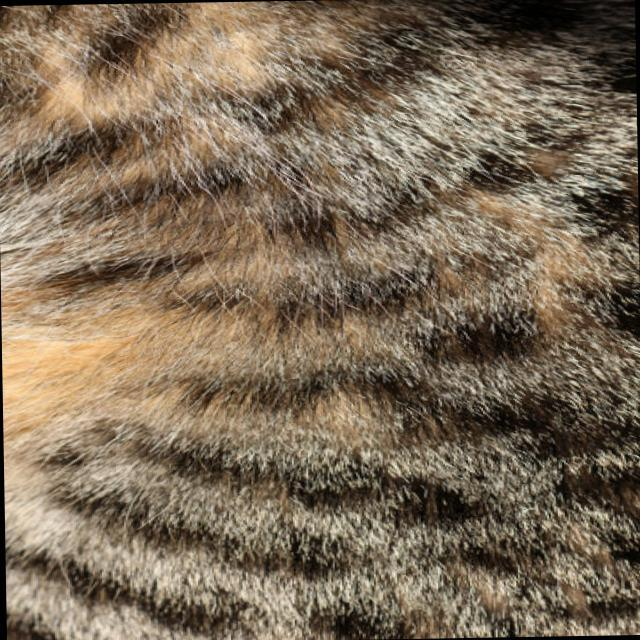Healthy skin: (8, 307, 640, 634), (318, 0, 639, 308), (50, 20, 312, 270)
